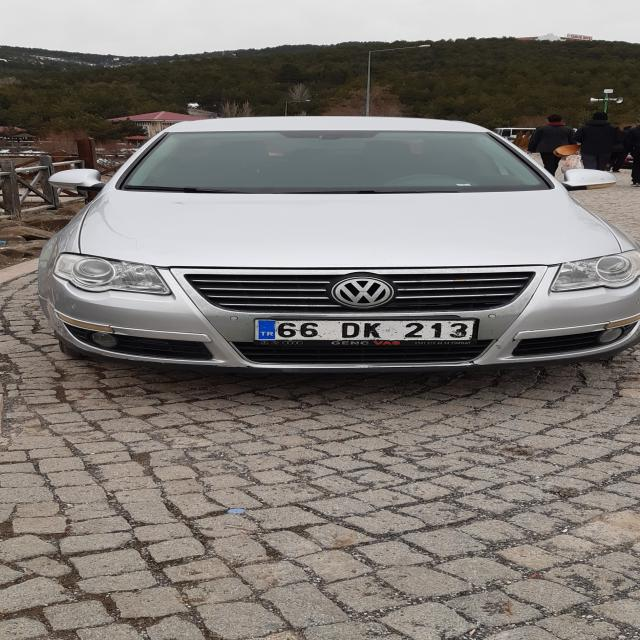license_plate: (254, 319, 475, 340)
